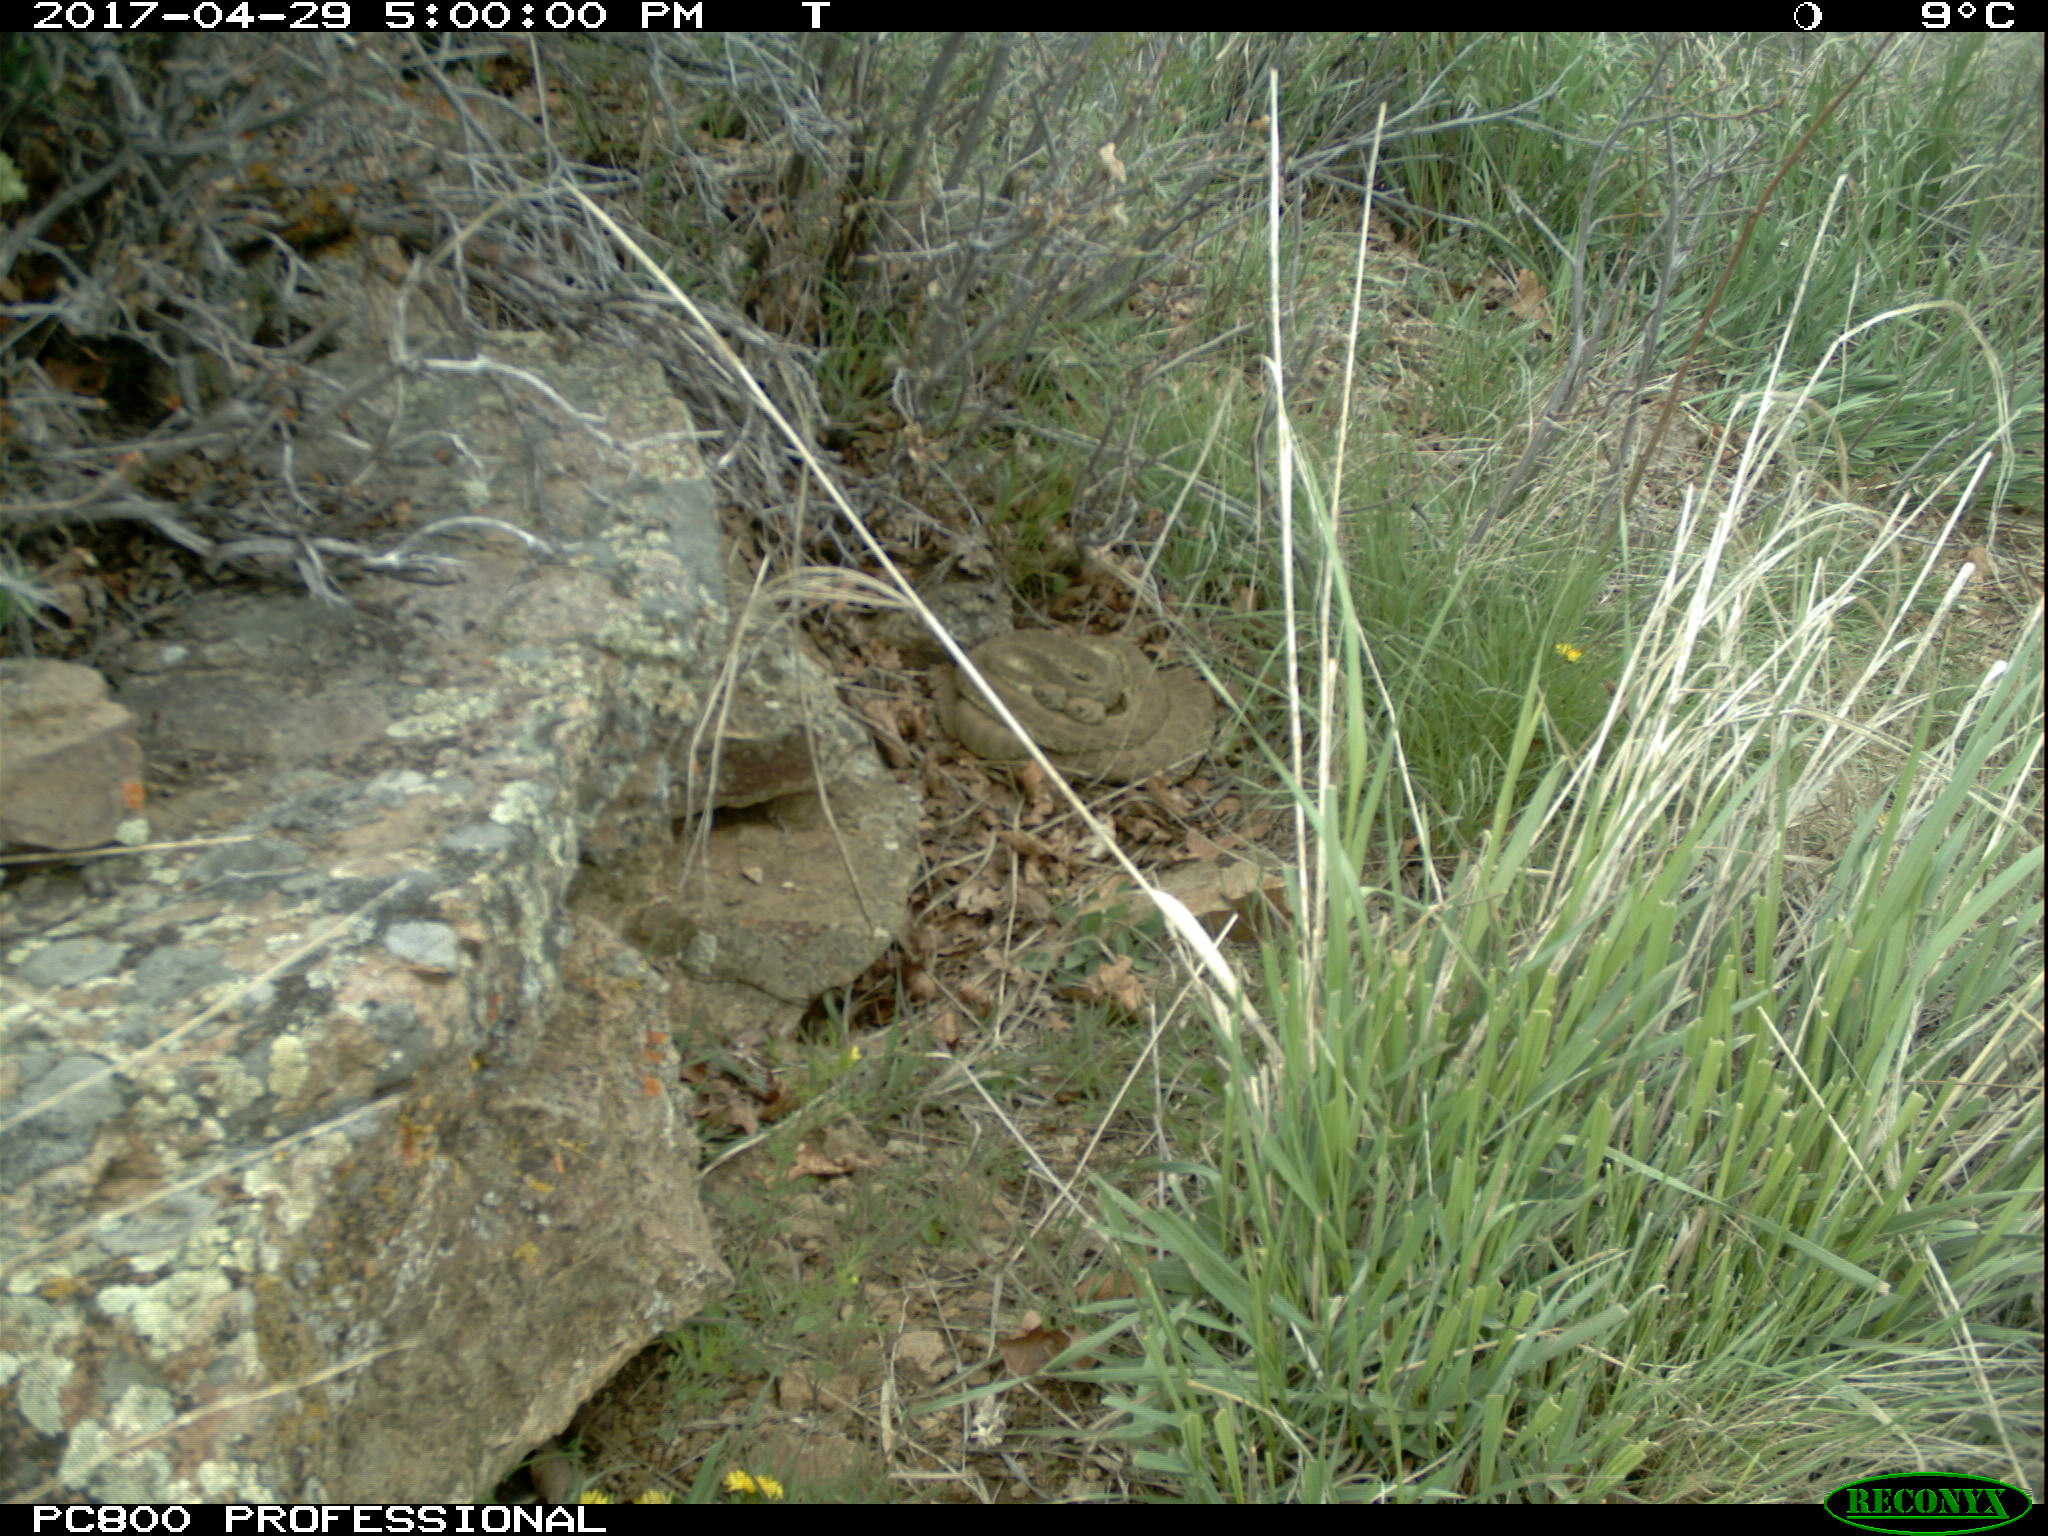snake: (913, 618, 1229, 792)
